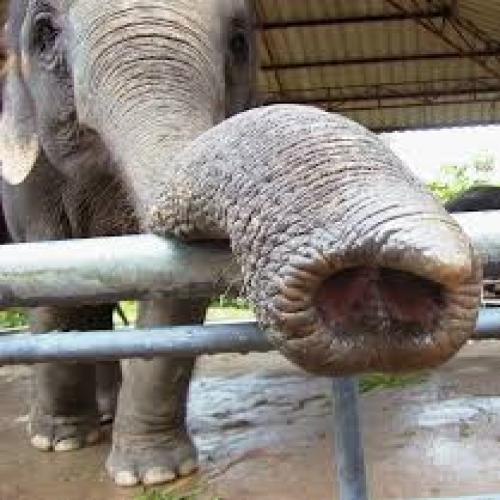asian_elephant-endangered: (0, 0, 484, 482)
